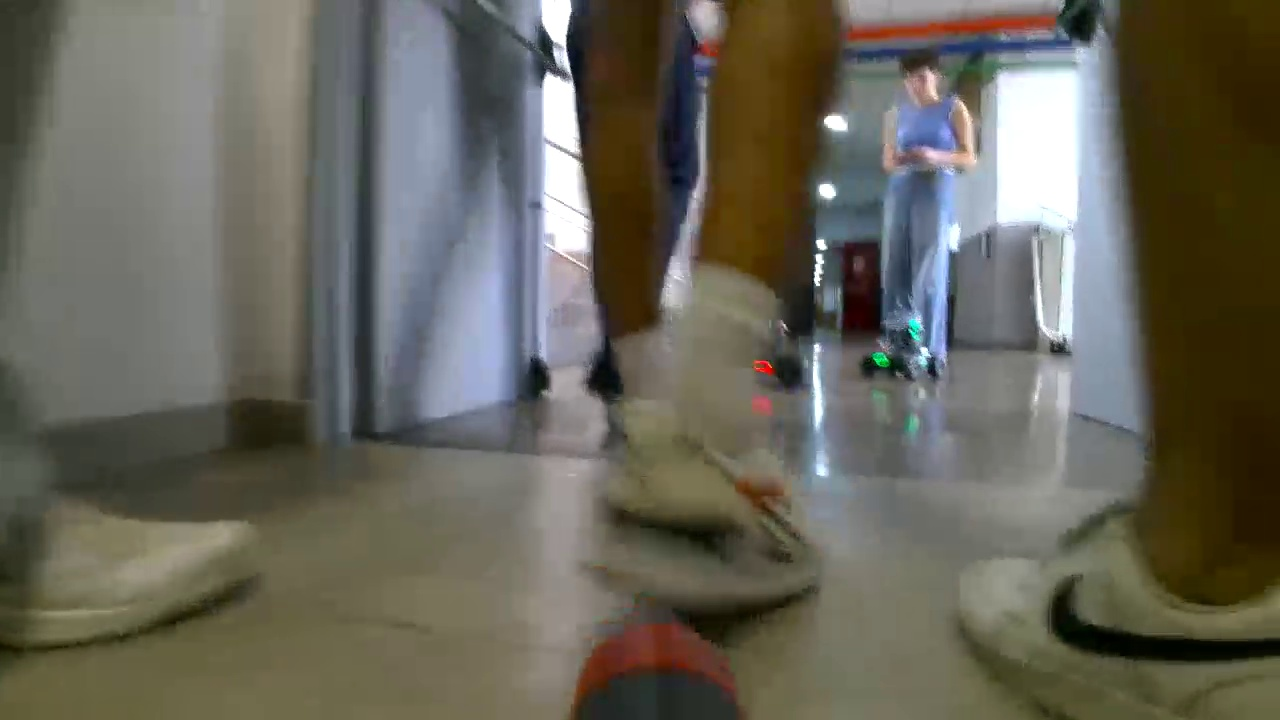robot: (853, 283, 953, 392), (741, 330, 815, 399)
